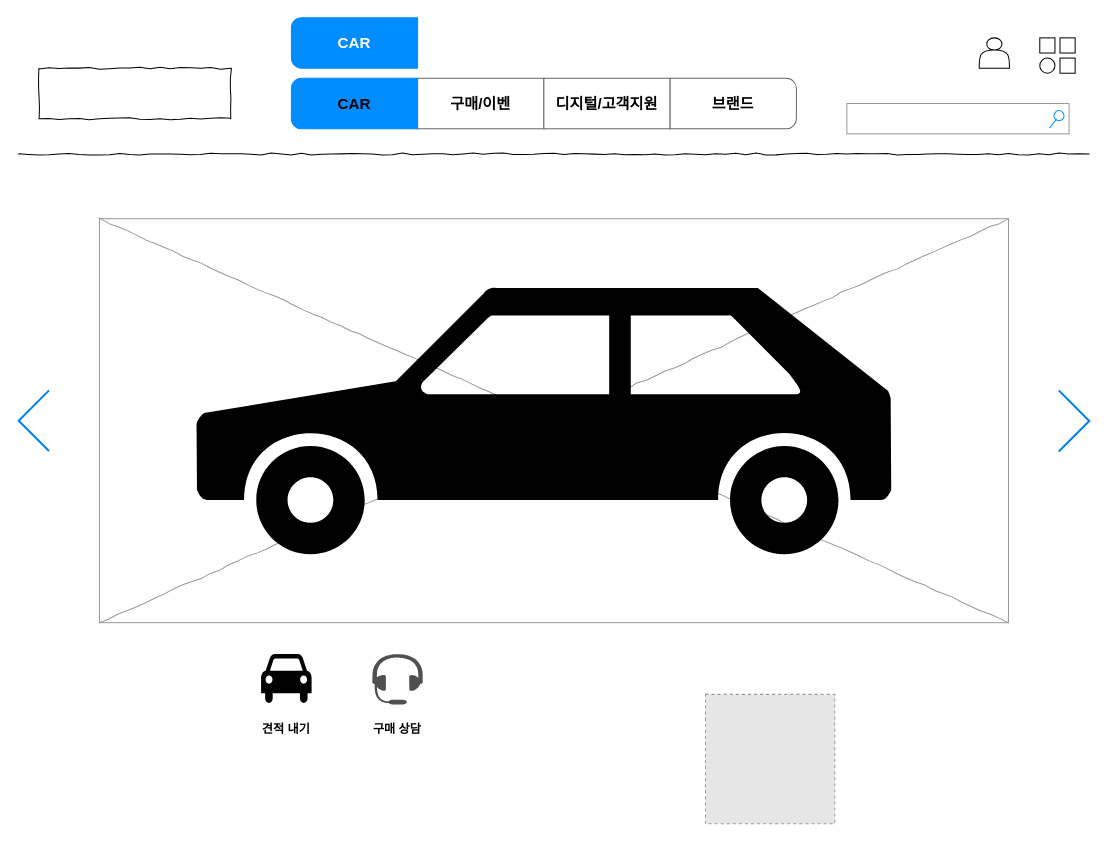
The diagram is 1107 pixels wide and 841 high, and some of its shapes have lost their labels. Grey dashed boxes stand in for pictures. The centre of each missing label's shape, as x and y in pixels:
LOGO: (x=134, y=93)
Search: (x=957, y=118)
